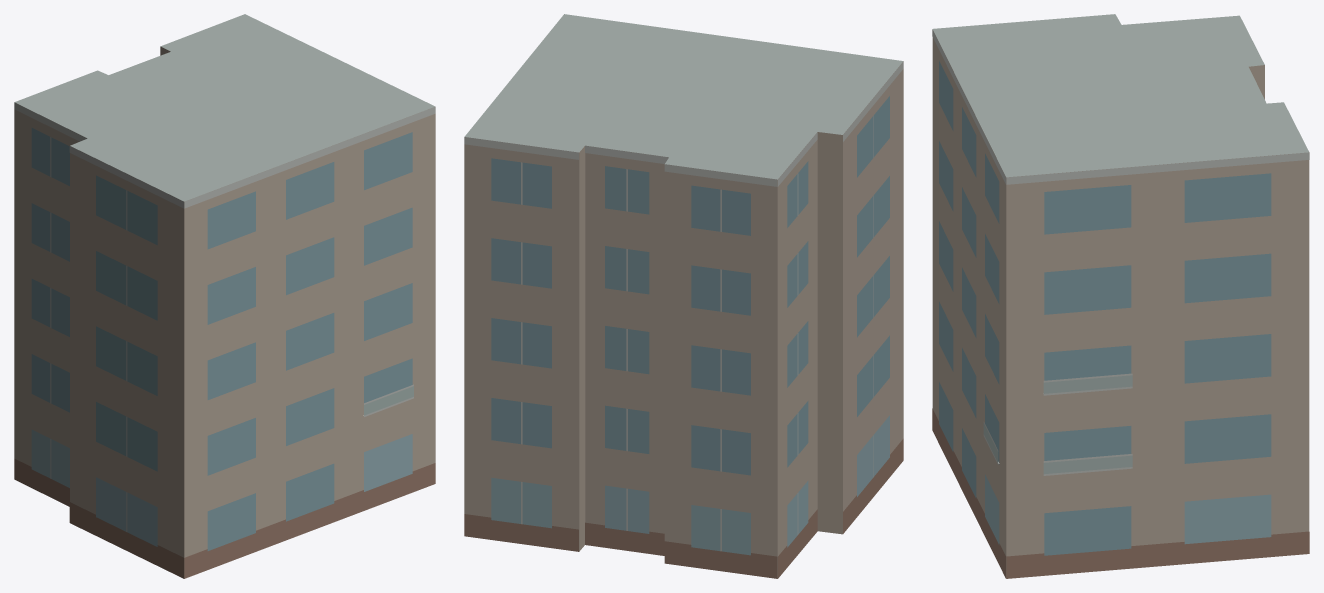
File: survey-upis-32506940.glb
3 renders of one model, left to right at view 1: azimuth 30°, elevation 25°; view 2: azimuth 150°, elevation 25°; view 3: azimuth 270°, elevation 25°, orthographic. The views are drawn at different scales.
Visible parts, largest first — view 1: survey-upis-32506940.tmp; view 2: survey-upis-32506940.tmp; view 3: survey-upis-32506940.tmp.
Part boxes in pixels (x1=…): survey-upis-32506940.tmp: x1=14, y1=14, x2=435, y2=578; survey-upis-32506940.tmp: x1=464, y1=14, x2=903, y2=578; survey-upis-32506940.tmp: x1=932, y1=14, x2=1309, y2=578.
Bounding box in the file's own units: 11.44 × 13.1 × 11.16.
